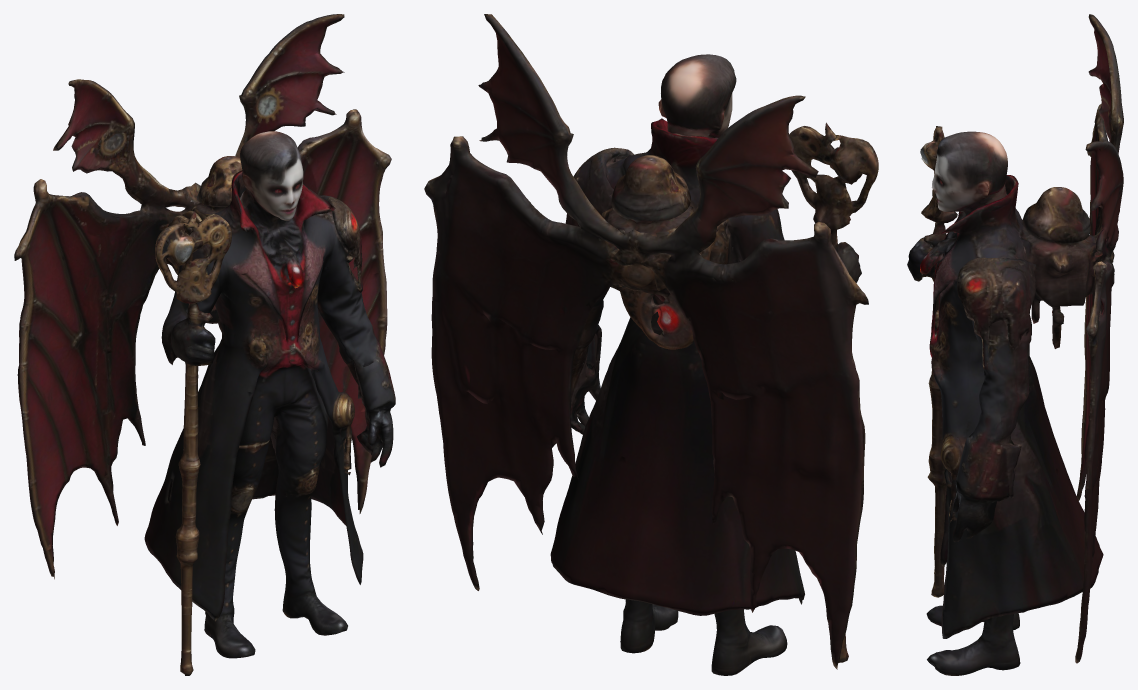
File: _halloween_A_sophis_1022135708_refine.glb
3 views of the same model, side by side, from view 1: azimuth 30°, elevation 25°; view 2: azimuth 150°, elevation 25°; view 3: azimuth 270°, elevation 25° (orthographic). The views are drawn at different scales.
Bounding box in the file's own units: 1.44 × 2.01 × 0.6996.
Materials: 1 (1 with a texture image).
